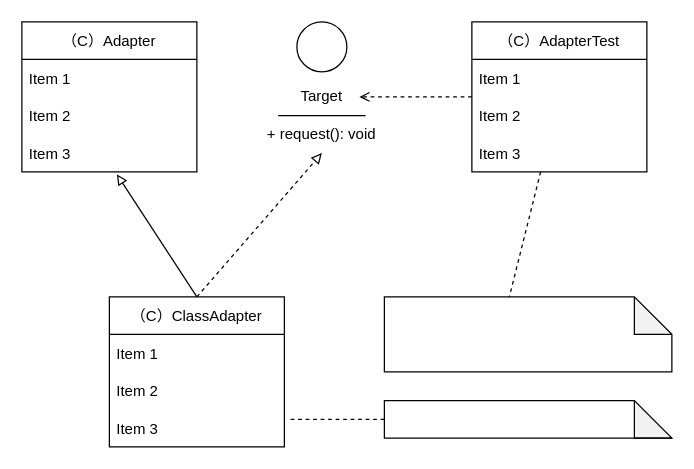
The diagram is 694 pixels wide and 469 high, and some of its shapes have lost their labels. The shapes that lost their labels are listed below. From the top down, each one's centre as x and y in pixels, then its label:
the point at 527,334: Target target = new ClassAdapter(); target.request();
the point at 527,418: specificRequest();
